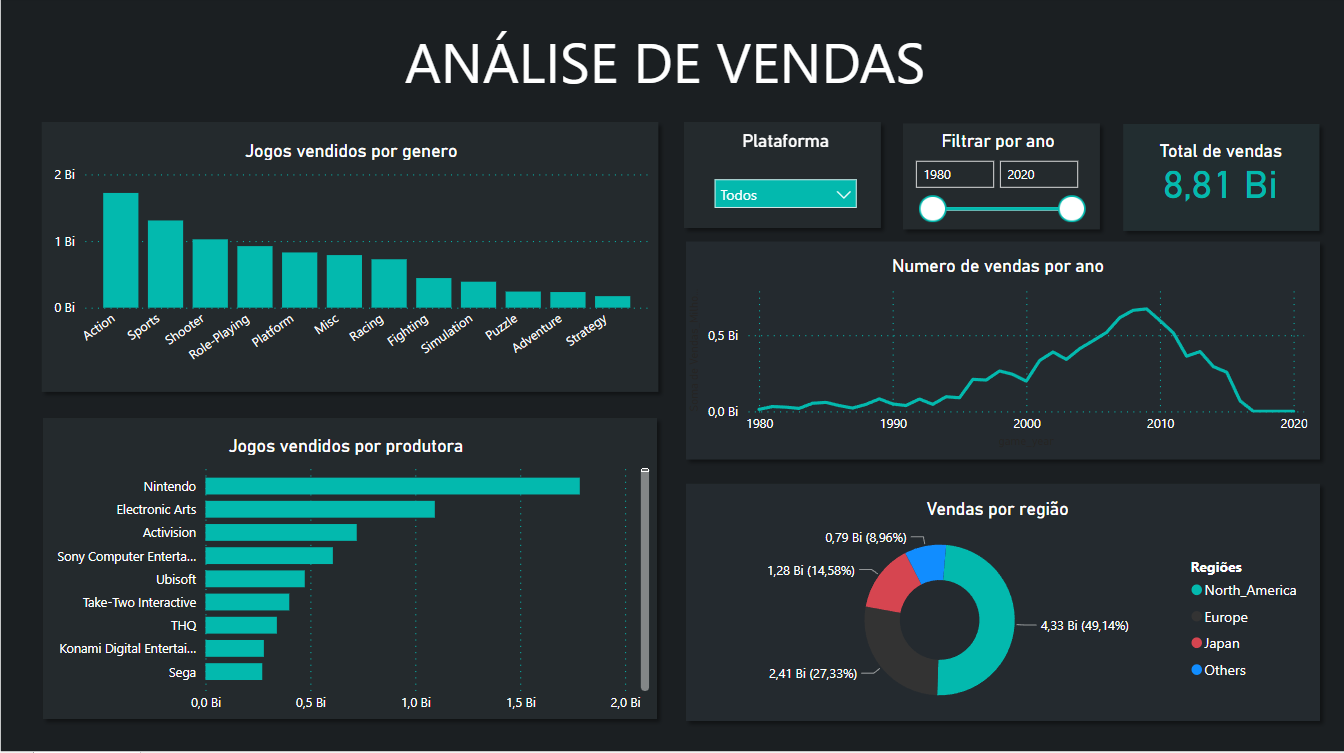

The page's visual inventory and layout, read from the dashboard file:
{"tool":"powerbi","page":{"name":"Página 1","canvas":[1280,720],"ordinal":0},"visuals":[{"type":"card","title":"Total de vendas","fields":{"Values":["Sum(sales.Vendas_Milhoes)"]},"box":[1074.6,136.9,174.9,75],"z":0},{"type":"lineChart","title":"Numero de vendas por ano","fields":{"Y":["Sum(sales.Vendas_Milhoes)"],"Category":["games.game_year"]},"box":[650.6,246.7,598.2,188.8],"z":1000},{"type":"slicer","title":"Filtrar por ano","fields":{"Values":["games.game_year"]},"box":[858.8,126.8,182,95.1],"z":2000},{"type":"donutChart","title":"Vendas por região","fields":{"Category":["regions.region_name"],"Y":["Sum(sales.Vendas_Milhoes)"]},"box":[651,464.1,597.4,226.1],"z":3000},{"type":"barChart","title":"Jogos vendidos por produtora","fields":{"Category":["publishers.publisher_name"],"Y":["Sum(sales.Vendas_Milhoes)"]},"box":[35.8,417.7,587.2,272.9],"z":4000},{"type":"slicer","title":"Plataforma","fields":{"Values":["platforms.platform_name"]},"box":[669.9,126.8,155.8,95.1],"z":5000},{"type":"columnChart","title":"Jogos vendidos por genero","fields":{"Y":["Sum(sales.Vendas_Milhoes)"],"Category":["games.game_genre"]},"box":[46.9,136.5,576.2,230.2],"z":6000},{"type":"textbox","box":[35.8,20.7,1224,84.1],"z":7000}]}

Visuals, with their boxes in screenshot pixels (x1, y1, x2, y2), scaled from the page's 1280x720 canvas onto the 1344x753 screenshot:
"Total de vendas" card: [left=1128, top=143, right=1312, bottom=222]
"Numero de vendas por ano" lineChart: [left=683, top=258, right=1311, bottom=455]
"Filtrar por ano" slicer: [left=902, top=133, right=1093, bottom=232]
"Vendas por região" donutChart: [left=684, top=485, right=1311, bottom=722]
"Jogos vendidos por produtora" barChart: [left=38, top=437, right=654, bottom=722]
"Plataforma" slicer: [left=703, top=133, right=867, bottom=232]
"Jogos vendidos por genero" columnChart: [left=49, top=143, right=654, bottom=384]
textbox: [left=38, top=22, right=1323, bottom=110]
